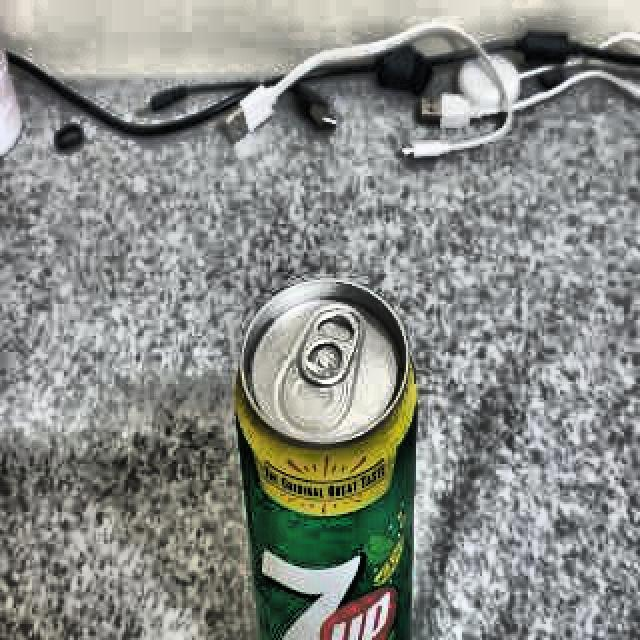metal: (229, 279, 418, 640)
